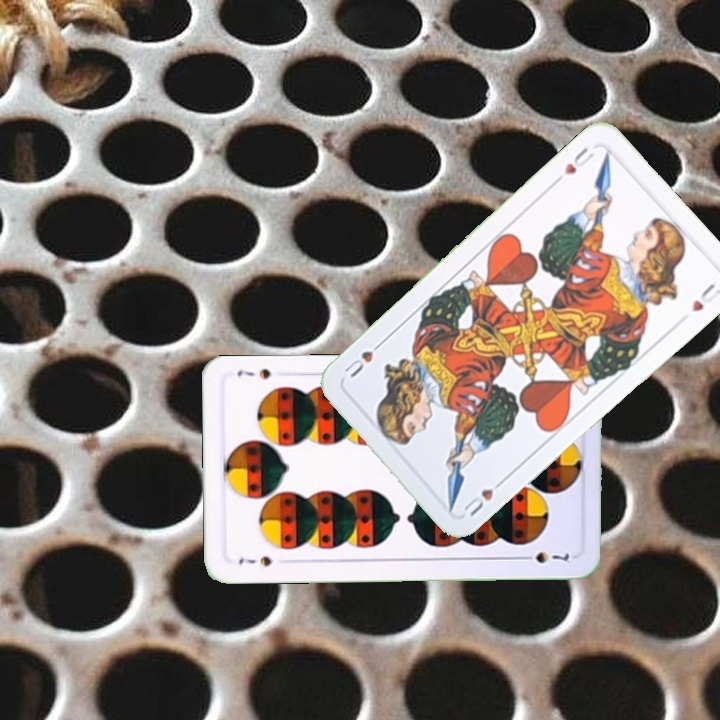HU: (459, 474, 509, 520), (560, 143, 598, 178)
S7: (234, 552, 275, 569)
